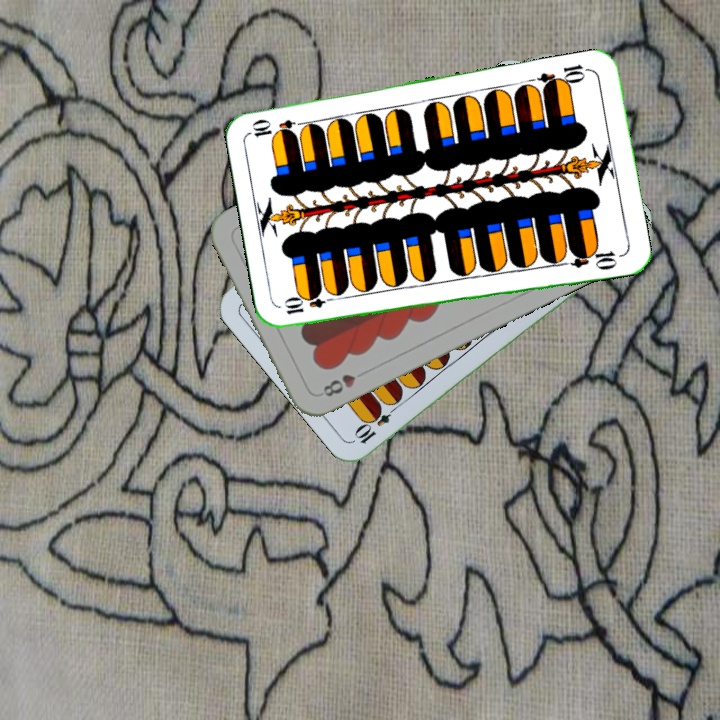E10: (351, 399, 402, 447), (535, 60, 594, 93), (281, 290, 339, 318)
H8: (319, 365, 370, 400)
